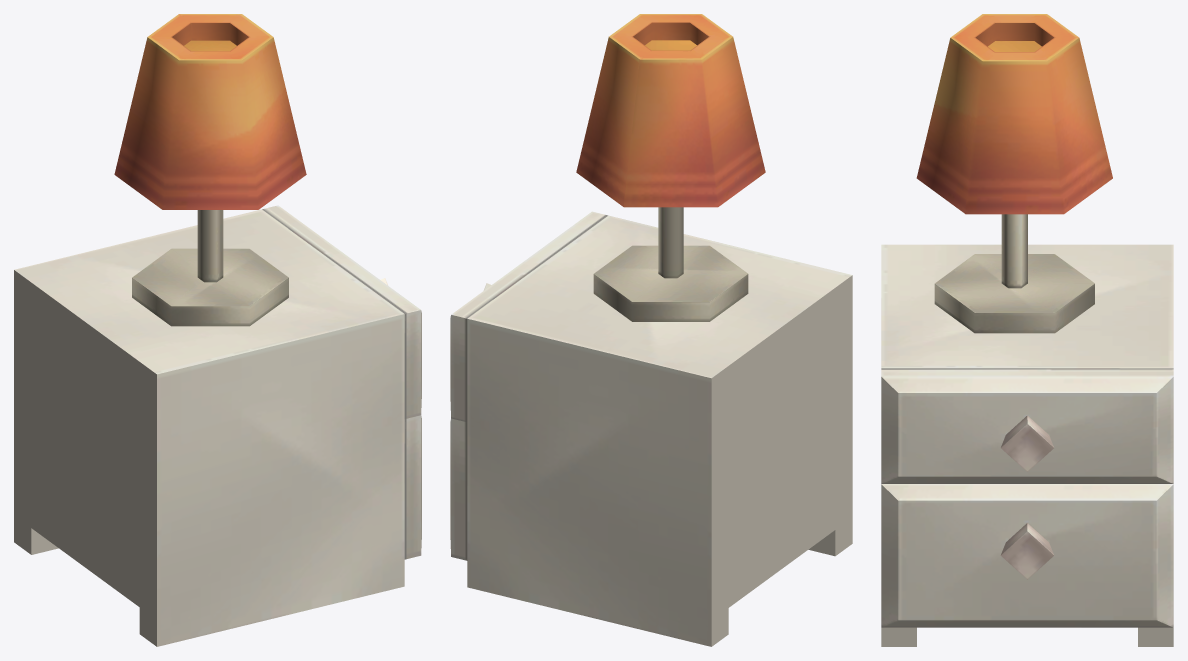
Rendered from BedTumb 3.fbx.
3 views of the same model, side by side, from view 1: azimuth 30°, elevation 25°; view 2: azimuth 150°, elevation 25°; view 3: azimuth 270°, elevation 25° (orthographic). The views are drawn at different scales.
Visible parts, largest first — view 1: BedTumb 3; view 2: BedTumb 3; view 3: BedTumb 3.
Boxes of the visible parts, x1=… form: BedTumb 3: x1=14, y1=14, x2=421, y2=646; BedTumb 3: x1=450, y1=14, x2=852, y2=646; BedTumb 3: x1=881, y1=14, x2=1173, y2=646.
Size of the model in its own units: 0.8499 by 1.44 by 0.7025.
2 materials, 2 textured.
